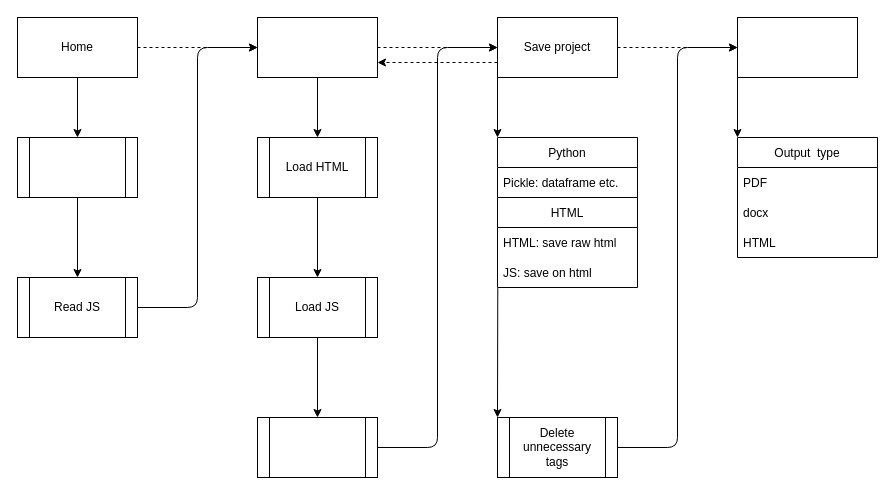
Image size: 895x495. Some labels were removed from this diagram. Each missing label, with the centre of its shape:
Create project: the point at 317,47
Load FAST API: the point at 317,447
Output project: the point at 797,47
Read jinja2: the point at 77,167
